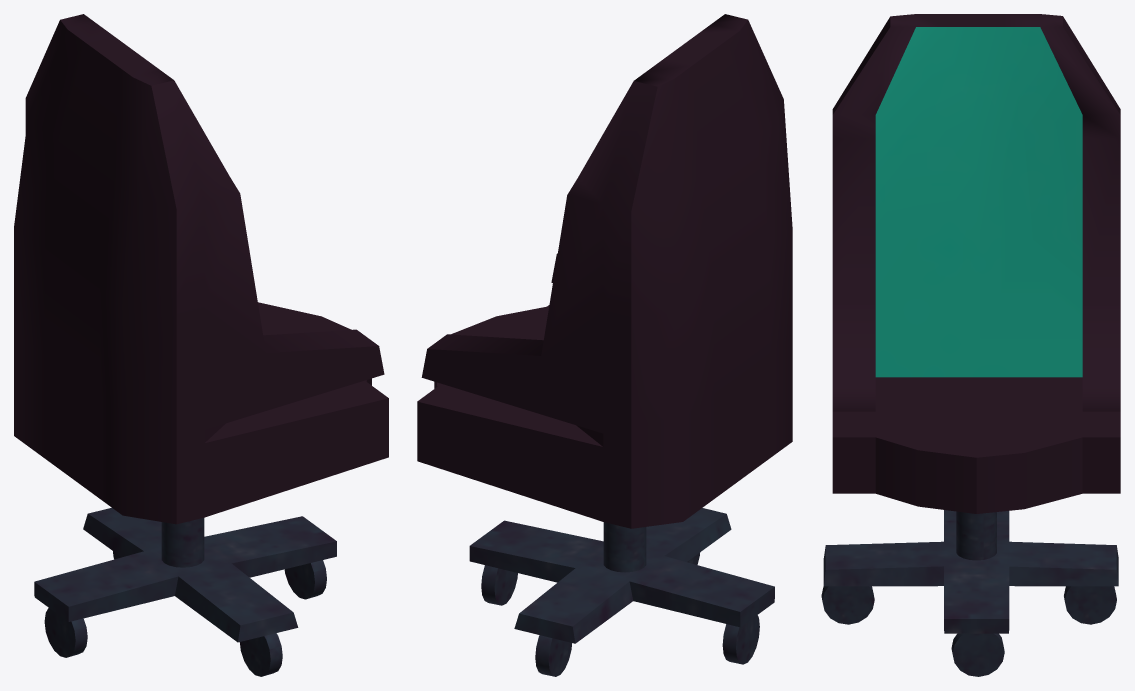
The model's file is MeetingRoom_Chair.fbx.
3 views of the same model, side by side, from view 1: azimuth 30°, elevation 25°; view 2: azimuth 150°, elevation 25°; view 3: azimuth 270°, elevation 25° (orthographic). The views are drawn at different scales.
Visible parts, largest first — view 1: Meetingchair; view 2: Meetingchair; view 3: Meetingchair.
Part boxes in pixels (x1,y1,x2,y2): Meetingchair: [14, 14, 388, 676]; Meetingchair: [417, 14, 792, 676]; Meetingchair: [821, 14, 1120, 676].
Bounding box in the file's own units: 66.45 × 123 × 59.08.
